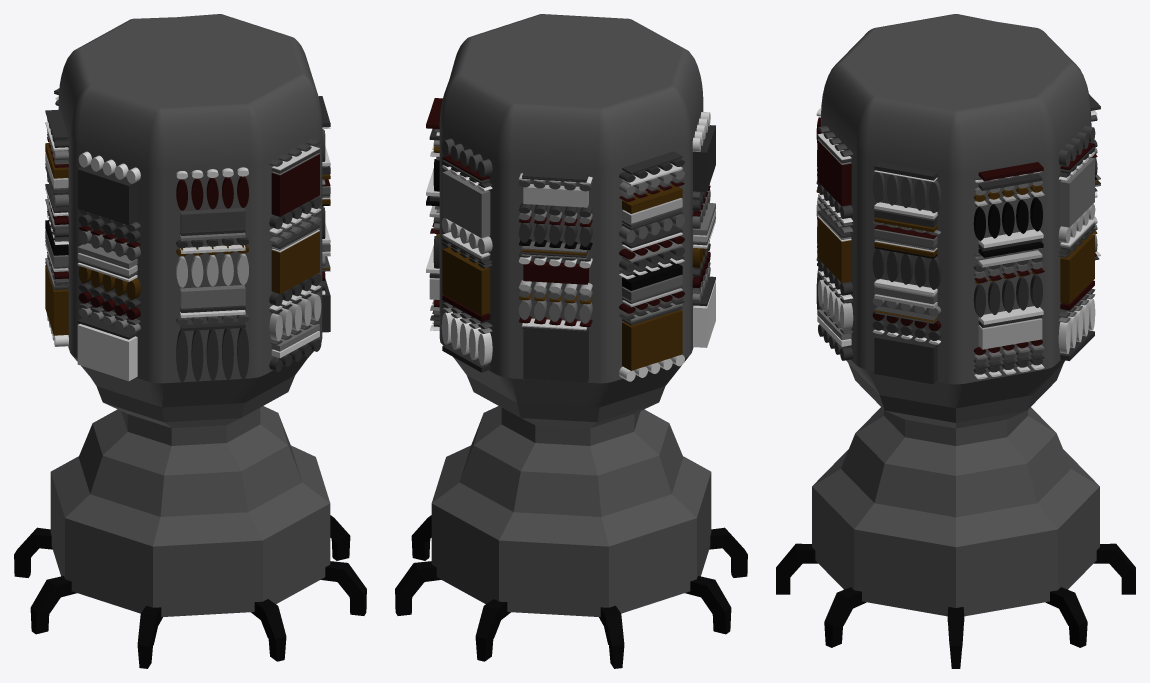
File: SpaceObjects1.2.fbx
The picture shows the model from 3 angles, left to right: view 1: azimuth 30°, elevation 25°; view 2: azimuth 150°, elevation 25°; view 3: azimuth 270°, elevation 25°; orthographic projection.
Parts seen in each view (by area): view 1: body2, Feet, Object_51, Object_459, Object_240, Object_185, Object_421, Object_186, Object_447, Object_466, Object_482, Object_483 (+2 smaller); view 2: body2, Feet, Object_446, Object_447, Object_275, Object_146, Object_159, Object_267, Object_51, Object_459, Object_34, Object_378 (+4 smaller); view 3: body2, Feet, Object_515, Object_275, Object_146, Object_185, Object_240, Object_526, Object_108, Object_301, Object_120, Object_84 (+3 smaller).
Boxes of the visible parts, x1,y1,x2,y2 form: body2: [50, 14, 330, 617]; Feet: [14, 515, 366, 668]; Object_51: [77, 165, 137, 225]; Object_459: [77, 324, 137, 381]; Object_240: [271, 231, 319, 293]; Object_185: [271, 154, 319, 216]; Object_421: [180, 285, 245, 308]; Object_186: [180, 207, 245, 231]; Object_447: [45, 265, 68, 335]; Object_466: [77, 243, 137, 268]; Object_482: [206, 329, 218, 380]; Object_483: [191, 330, 203, 381]; body2: [431, 14, 711, 617]; Feet: [395, 515, 747, 668]; Object_446: [523, 327, 588, 382]; Object_447: [622, 309, 682, 370]; Object_275: [442, 246, 490, 315]; Object_146: [442, 169, 490, 238]; Object_159: [523, 184, 588, 207]; Object_267: [523, 261, 588, 284]; Object_51: [693, 125, 715, 191]; Object_459: [693, 281, 715, 347]; Object_34: [622, 184, 682, 213]; Object_378: [622, 262, 682, 290]; body2: [812, 14, 1099, 616]; Feet: [776, 543, 1135, 668]; Object_515: [874, 334, 937, 384]; Object_275: [1060, 234, 1094, 303]; Object_146: [1060, 157, 1094, 227]; Object_185: [817, 140, 851, 206]; Object_240: [817, 217, 851, 282]; Object_526: [978, 318, 1042, 349]; Object_108: [978, 162, 1043, 181]; Object_301: [978, 306, 1043, 324]; Object_120: [978, 229, 1043, 248]; Object_84: [874, 209, 937, 227].
Bounding box in the file's own units: 2000 × 3252 × 2000.
